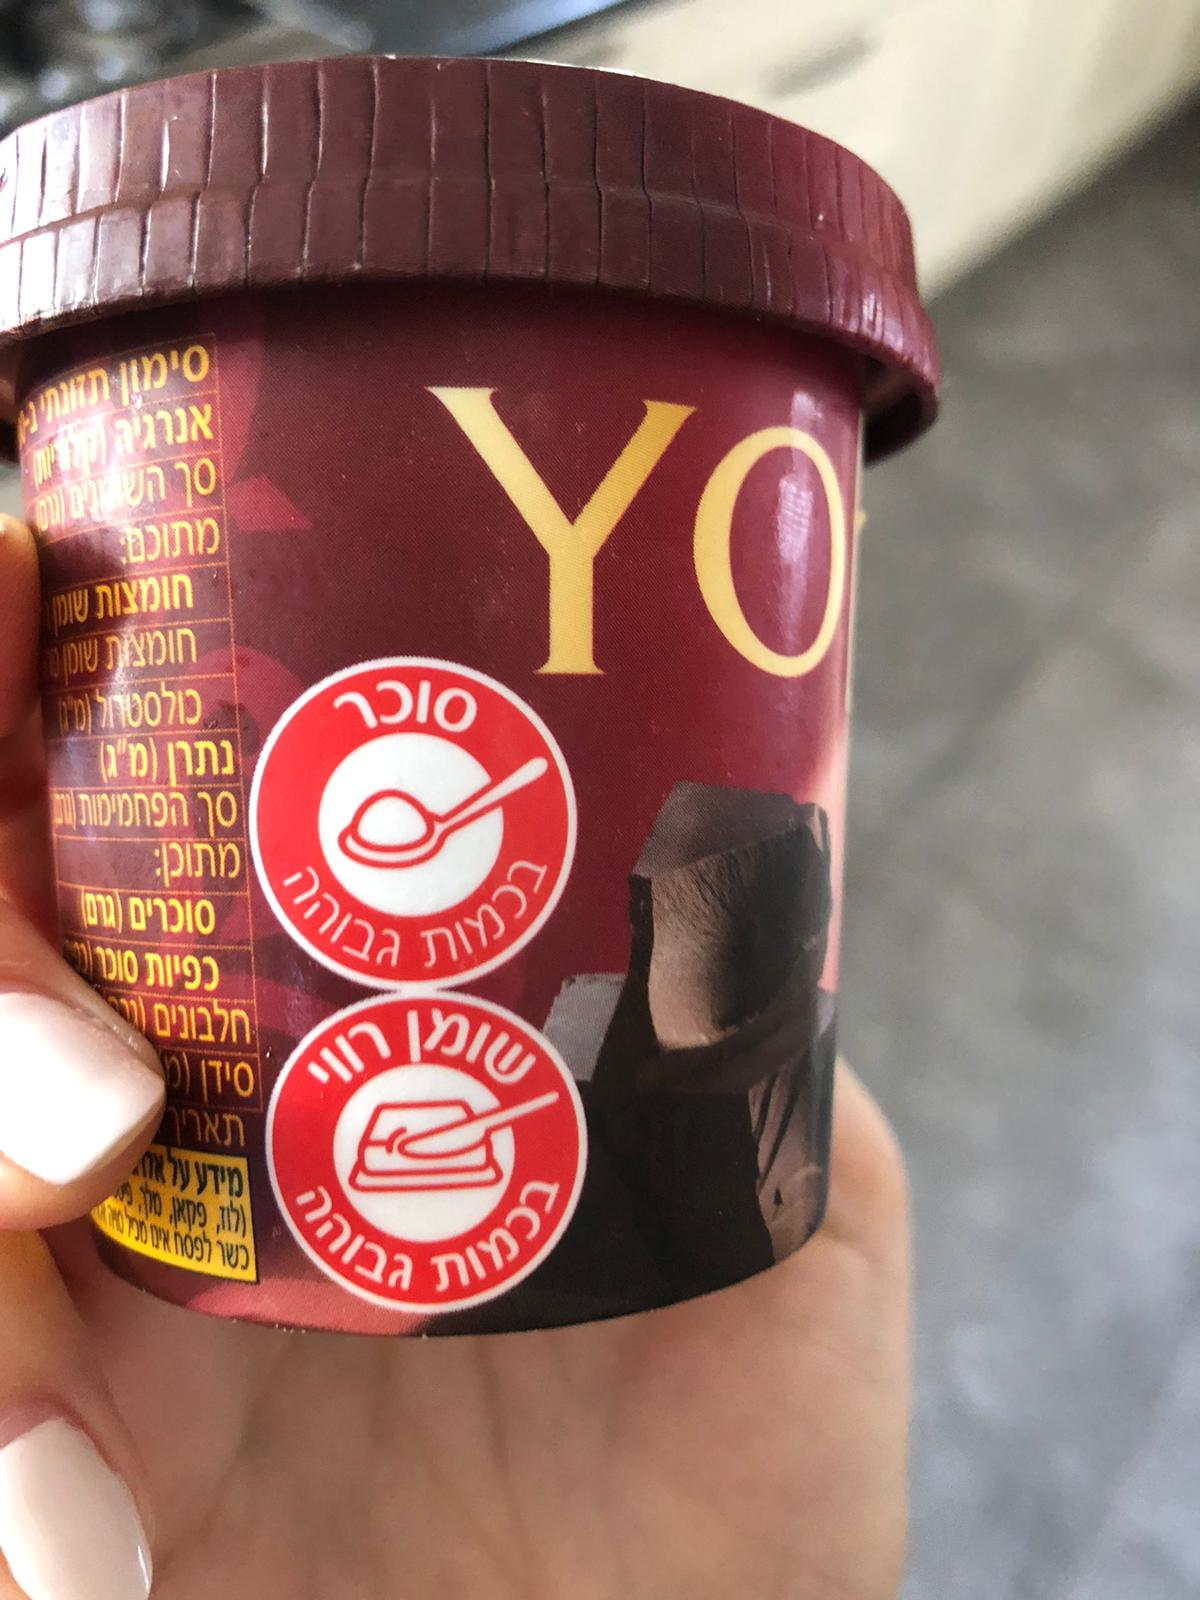fat: (261, 991, 591, 1318)
sugar: (247, 655, 581, 995)
